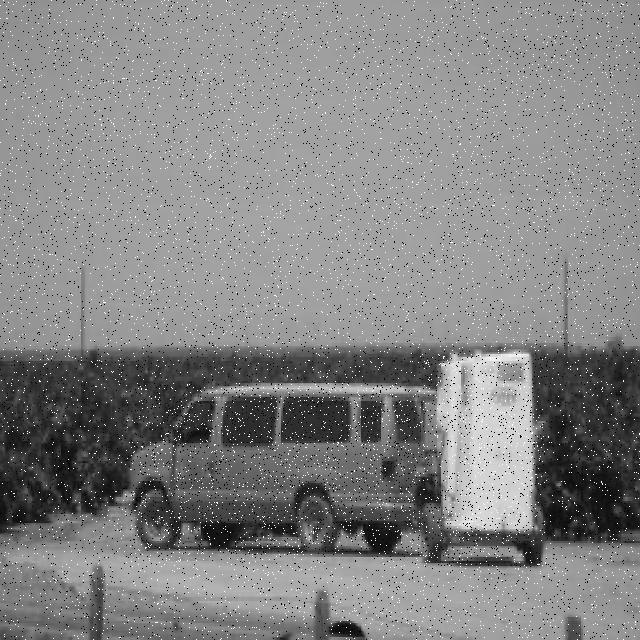Box Truck: (422, 354, 543, 566)
Van: (130, 384, 434, 555)
